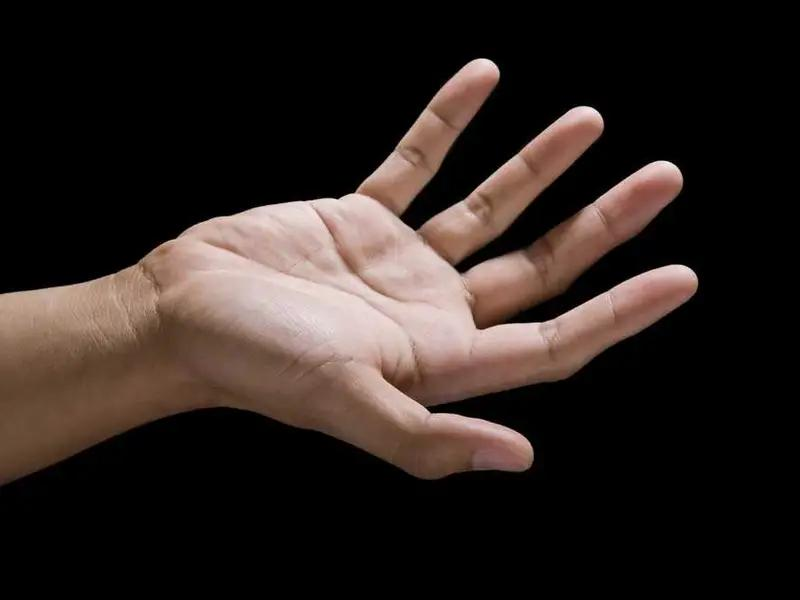paper: (129, 38, 711, 488)
